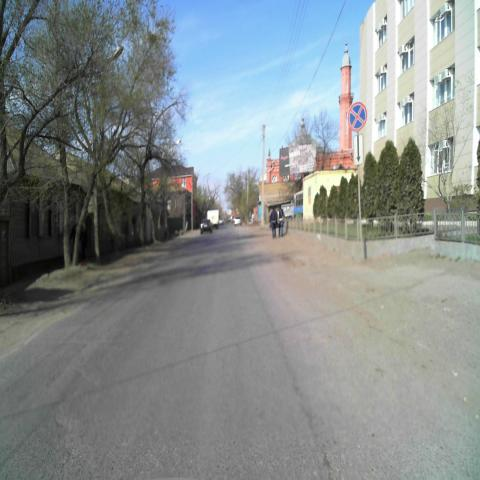8_2_3: (353, 135, 363, 168)
